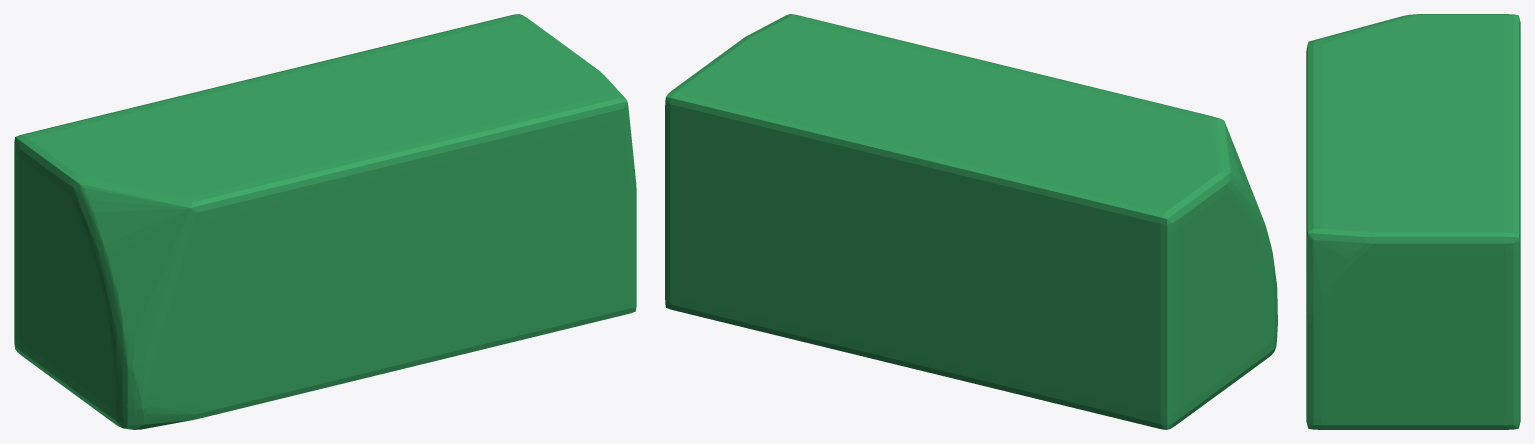
File: left_shoulder_pitch_link_part_10.obj
The picture shows the model from 3 angles, left to right: view 1: azimuth 30°, elevation 25°; view 2: azimuth 150°, elevation 25°; view 3: azimuth 270°, elevation 25°; orthographic projection. The views are drawn at different scales.
Bounding box in the file's own units: 0.0673 × 0.0274 × 0.0271.
